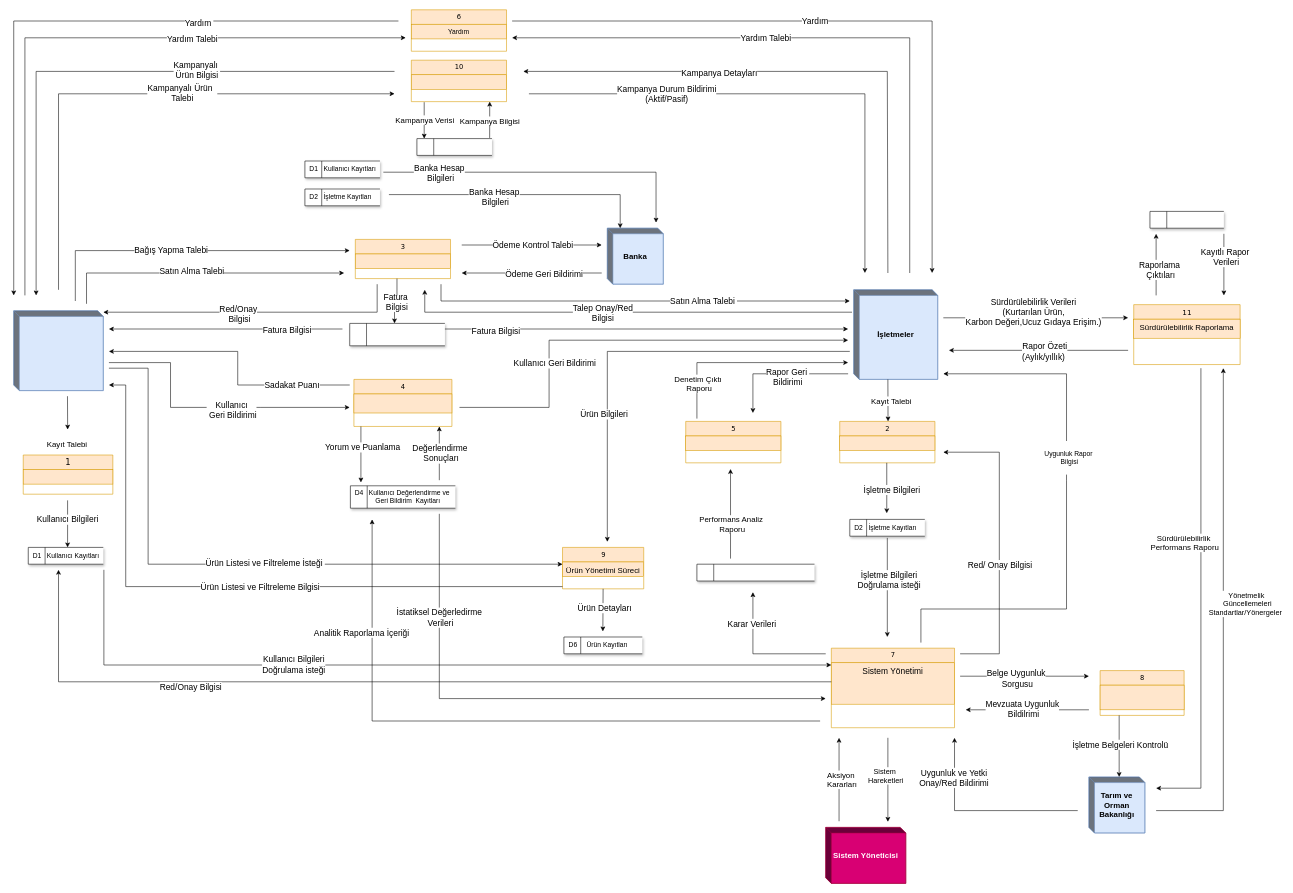
Some shapes in this 1293 by 893 pixel diagram are drawn without their labels. Each missing label, with the centre of its shape:
"D3 Muhasebe Kayıtları" goes at (x=397, y=335).
"D5 İşletme Değerlendirme Kayıtları" goes at (x=756, y=573).
"D6 Kampanya Kayıtları" goes at (x=454, y=147).
"D7 Sürdürülebilirlik Kayıtları" goes at (x=1187, y=220).
"Denetim İşlemleri" goes at (x=733, y=443).
"Değerlendirme ve Geri Bildirim İşlemleri" goes at (x=402, y=403).
"İşletme Kayıt İşlemleri" goes at (x=887, y=443).
"Kampanya Yönetimi Süreci" goes at (x=459, y=81).
"Kullanıcı Kayıt İşlemleri" goes at (x=68, y=476).
"Kullanıcılar" goes at (x=58, y=350).
"Satın Alma İşlemi" goes at (x=403, y=261).
"Yetki ve Mevzuat Yönetimi" goes at (x=1142, y=697).
